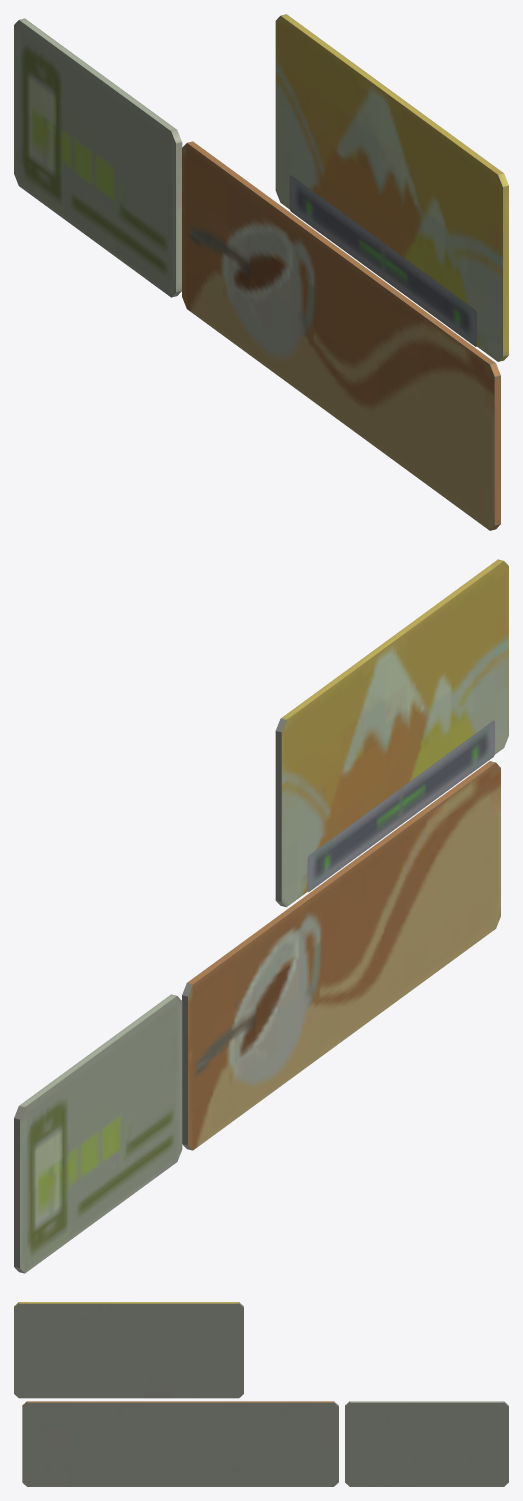
File: pref_sm_city_riverwall05_snow_lv3.fbx
3 renders of one model, top to bottom at view 1: azimuth 30°, elevation 25°; view 2: azimuth 150°, elevation 25°; view 3: azimuth 270°, elevation 25°, orthographic. The views are drawn at different scales.
Visible parts, largest first — view 1: pref_sm_city_riverwall05_snow_lv3; view 2: pref_sm_city_riverwall05_snow_lv3; view 3: pref_sm_city_riverwall05_snow_lv3.
Part boxes in pixels (x1=…): pref_sm_city_riverwall05_snow_lv3: x1=14, y1=14, x2=508, y2=530; pref_sm_city_riverwall05_snow_lv3: x1=14, y1=559, x2=508, y2=1273; pref_sm_city_riverwall05_snow_lv3: x1=14, y1=1302, x2=508, y2=1486.
Size of the model in its own units: 0.1181 by 3.39 by 8.31.
1 material, 1 textured.
